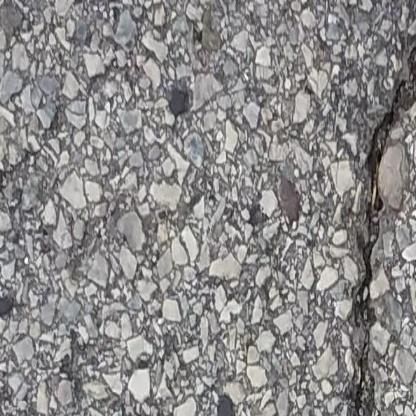Cracks: (350, 38, 416, 416)
